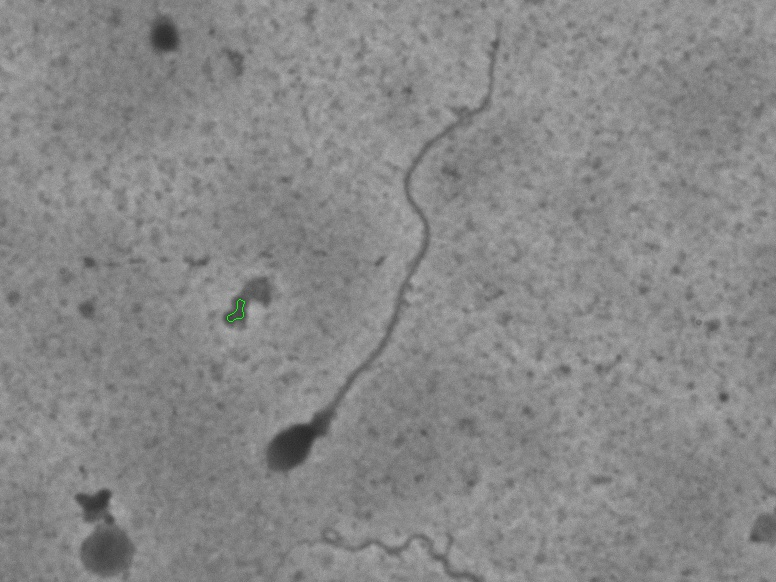Normal: (246, 14, 519, 487)
